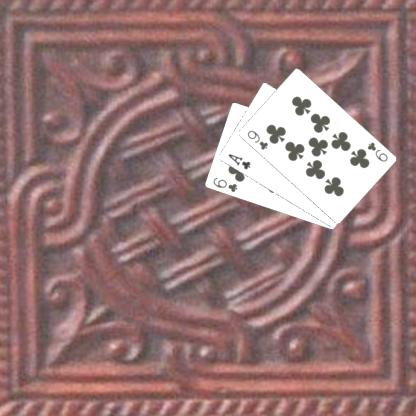6C: (210, 175, 239, 193)
9C: (244, 127, 270, 152), (364, 140, 389, 164)
AC: (225, 151, 251, 171)
